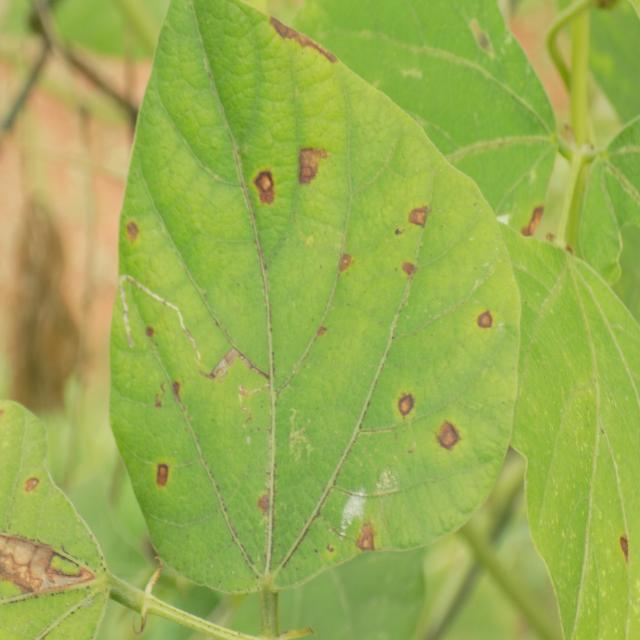Dolicos bean_cercospora leaf spot: (113, 0, 520, 569), (270, 0, 556, 250)
Dolicos bean_healthy: (292, 0, 557, 266), (477, 249, 640, 640)
